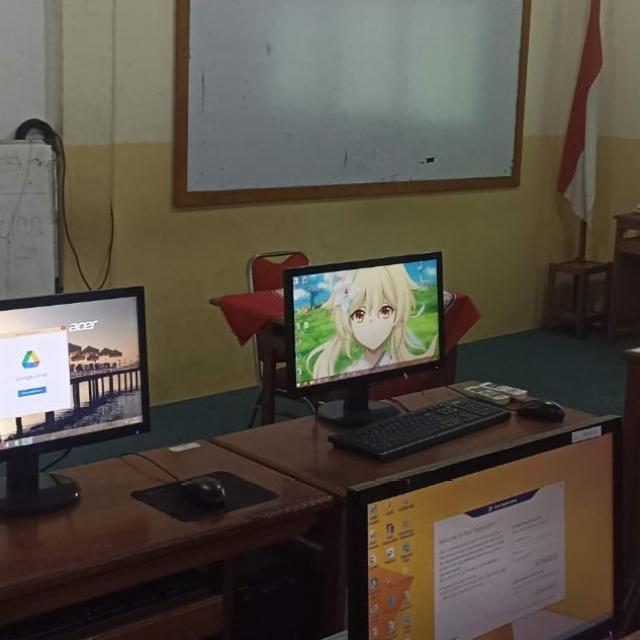onscreen: (0, 288, 149, 456), (293, 257, 440, 385)
